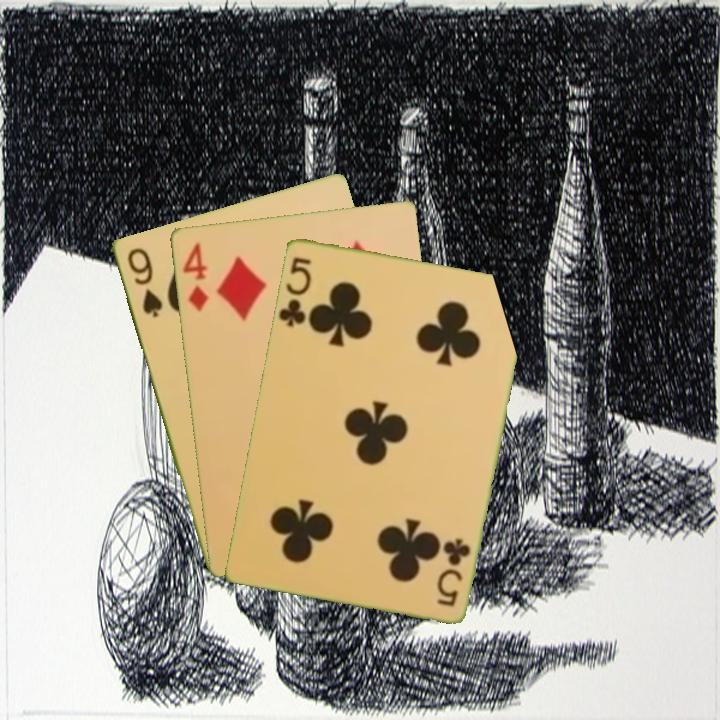4d: (179, 239, 211, 314)
5c: (433, 534, 473, 609), (275, 253, 314, 329)
9s: (123, 244, 165, 321)
